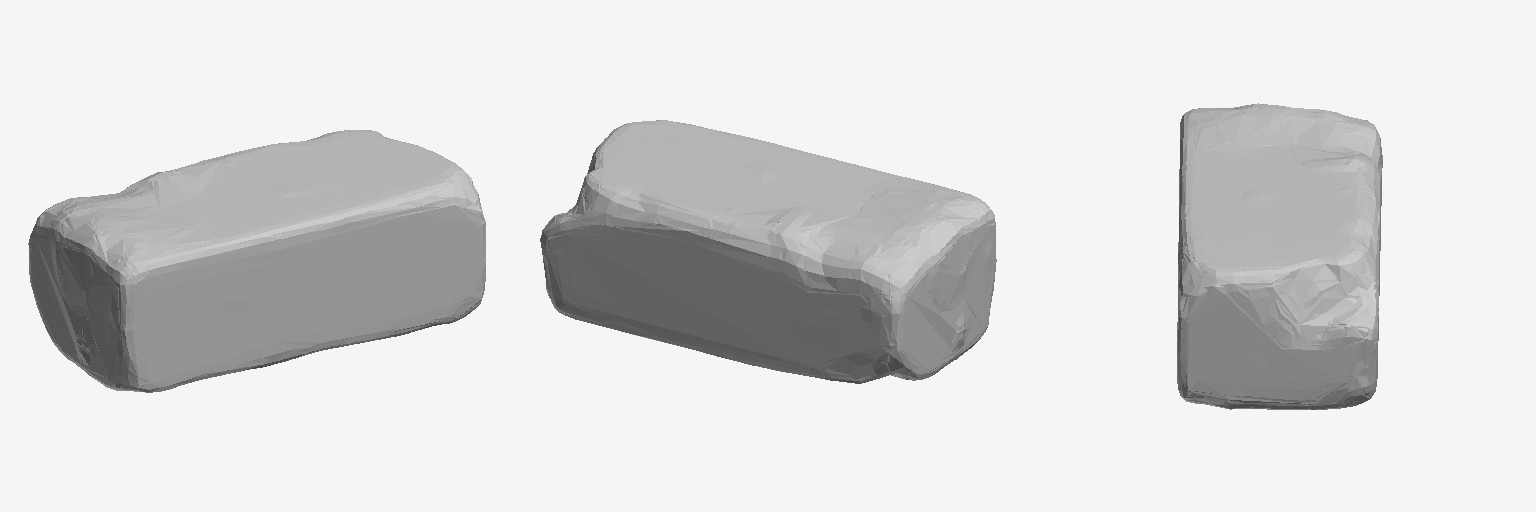
File: Brick04.obj
3 renders of one model, left to right at view 1: azimuth 30°, elevation 25°; view 2: azimuth 150°, elevation 25°; view 3: azimuth 270°, elevation 25°, orthographic.
Parts seen in each view (by area): view 1: Brick04_Lod3_Brick04_Low.005, Brick04_Lod2_Brick04_Low.004, Brick04_Low, Brick04_Lod1_Brick04_Low.003; view 2: Brick04_Lod3_Brick04_Low.005, Brick04_Lod2_Brick04_Low.004, Brick04_Low, Brick04_Lod1_Brick04_Low.003; view 3: Brick04_Lod3_Brick04_Low.005, Brick04_Low, Brick04_Lod2_Brick04_Low.004, Brick04_Lod1_Brick04_Low.003.
Boxes of the visible parts, x1,y1,x2,y2 form: Brick04_Lod3_Brick04_Low.005: [30, 130, 485, 392]; Brick04_Lod2_Brick04_Low.004: [29, 130, 485, 392]; Brick04_Low: [28, 130, 485, 392]; Brick04_Lod1_Brick04_Low.003: [29, 130, 485, 392]; Brick04_Lod3_Brick04_Low.005: [541, 120, 994, 380]; Brick04_Lod2_Brick04_Low.004: [542, 120, 995, 379]; Brick04_Low: [540, 120, 995, 383]; Brick04_Lod1_Brick04_Low.003: [540, 121, 996, 383]; Brick04_Lod3_Brick04_Low.005: [1177, 104, 1381, 408]; Brick04_Low: [1177, 104, 1382, 409]; Brick04_Lod2_Brick04_Low.004: [1177, 103, 1381, 408]; Brick04_Lod1_Brick04_Low.003: [1177, 104, 1382, 409].
Bounding box in the file's own units: 0.2489 × 0.0922 × 0.12.